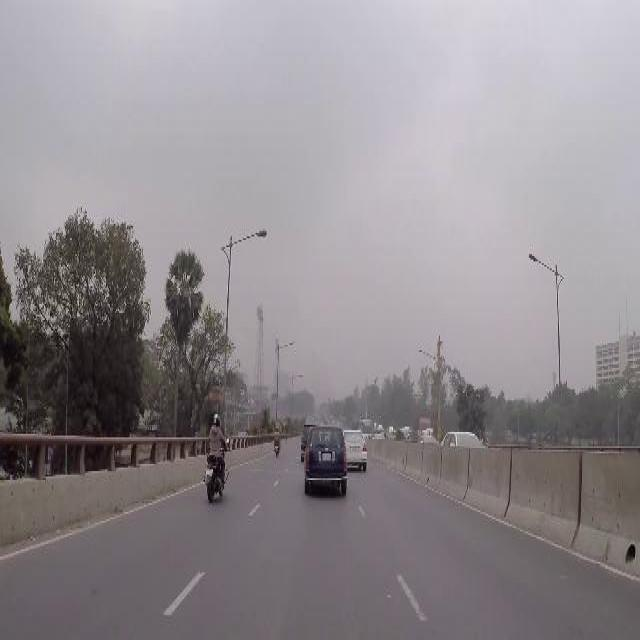bike: (204, 441, 232, 500), (272, 428, 282, 456)
vehicle: (304, 426, 348, 493), (346, 430, 369, 468), (441, 430, 484, 448), (360, 418, 374, 437), (419, 437, 438, 444), (374, 433, 385, 440)
